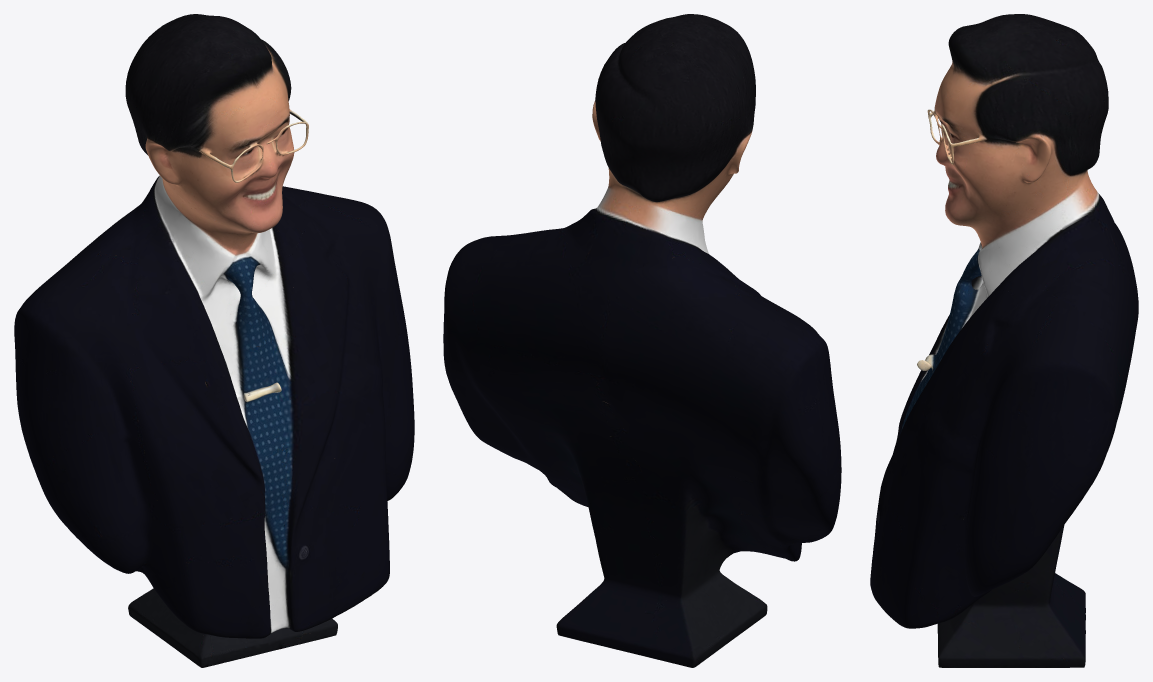
The model's file is fujimori_face_compressed.glb.
The picture shows the model from 3 angles, left to right: view 1: azimuth 30°, elevation 25°; view 2: azimuth 150°, elevation 25°; view 3: azimuth 270°, elevation 25°; orthographic projection.
Bounding box in the file's own units: 1.21 × 1.9 × 0.7639.
1 material, 1 textured.
